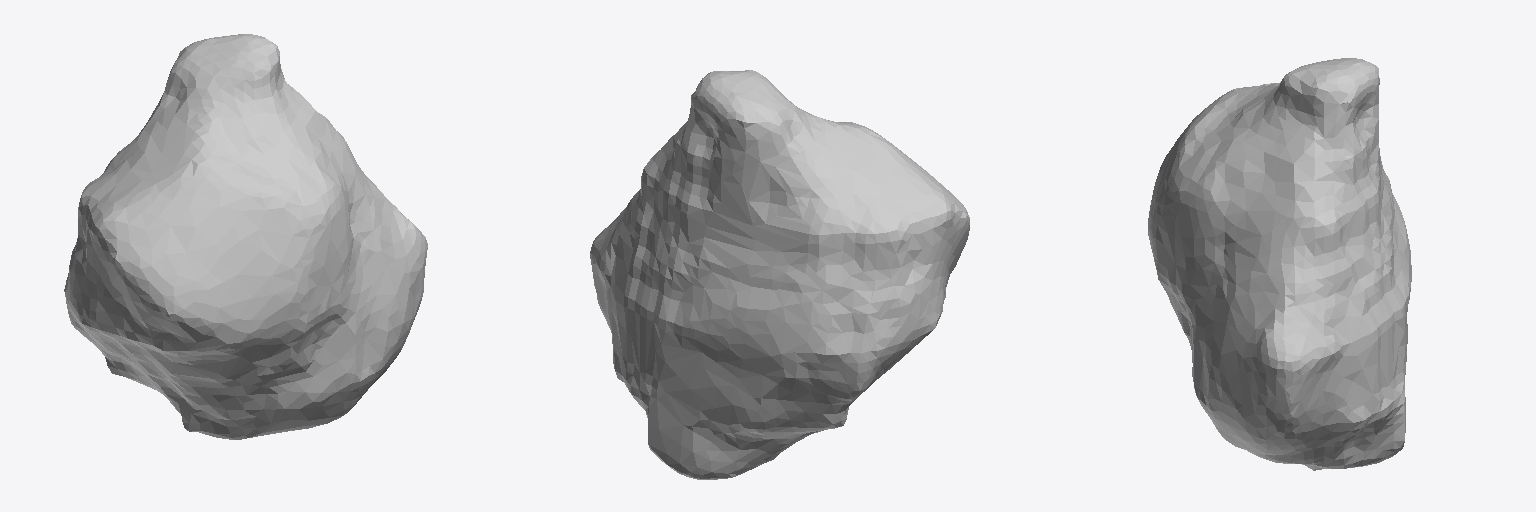
3 views of the same model, side by side, from view 1: azimuth 30°, elevation 25°; view 2: azimuth 150°, elevation 25°; view 3: azimuth 270°, elevation 25° (orthographic).
Visible parts, largest first — view 1: Polygonal_Model_7_Triangles_0; view 2: Polygonal_Model_7_Triangles_0; view 3: Polygonal_Model_7_Triangles_0.
Part boxes in pixels (bbox=[...]): Polygonal_Model_7_Triangles_0: bbox=[64, 34, 427, 439]; Polygonal_Model_7_Triangles_0: bbox=[590, 70, 969, 479]; Polygonal_Model_7_Triangles_0: bbox=[1148, 58, 1411, 470].
Bounding box in the file's own units: 0.9389 × 1.02 × 0.6264.